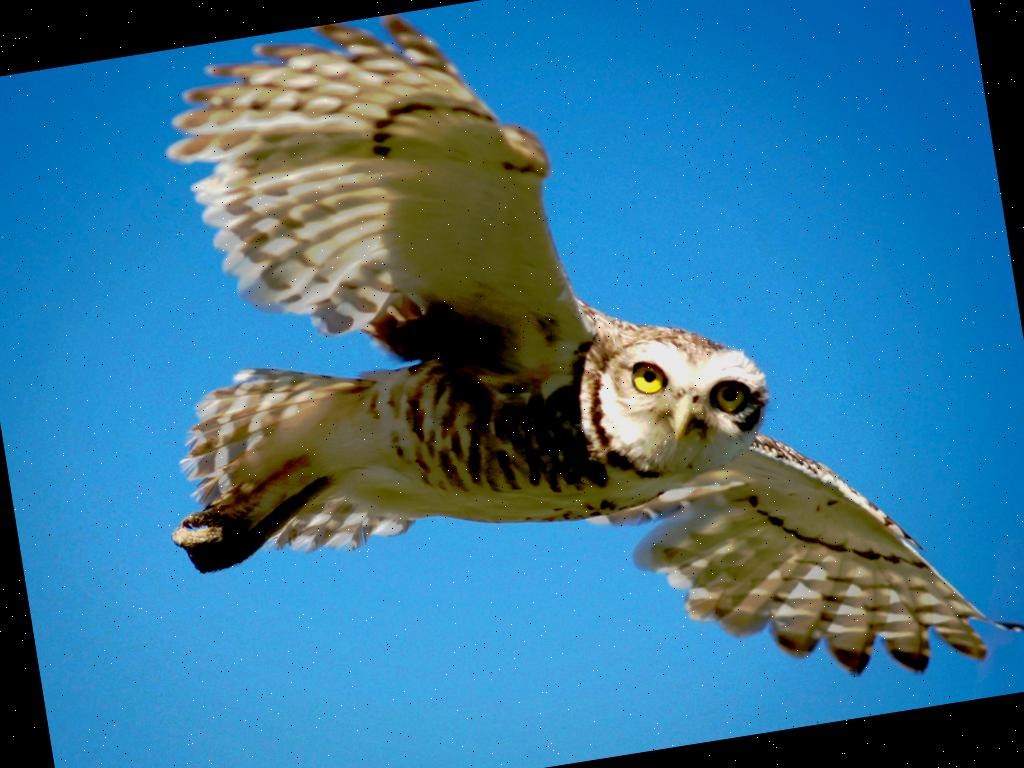Owl: (94, 0, 1024, 768)
